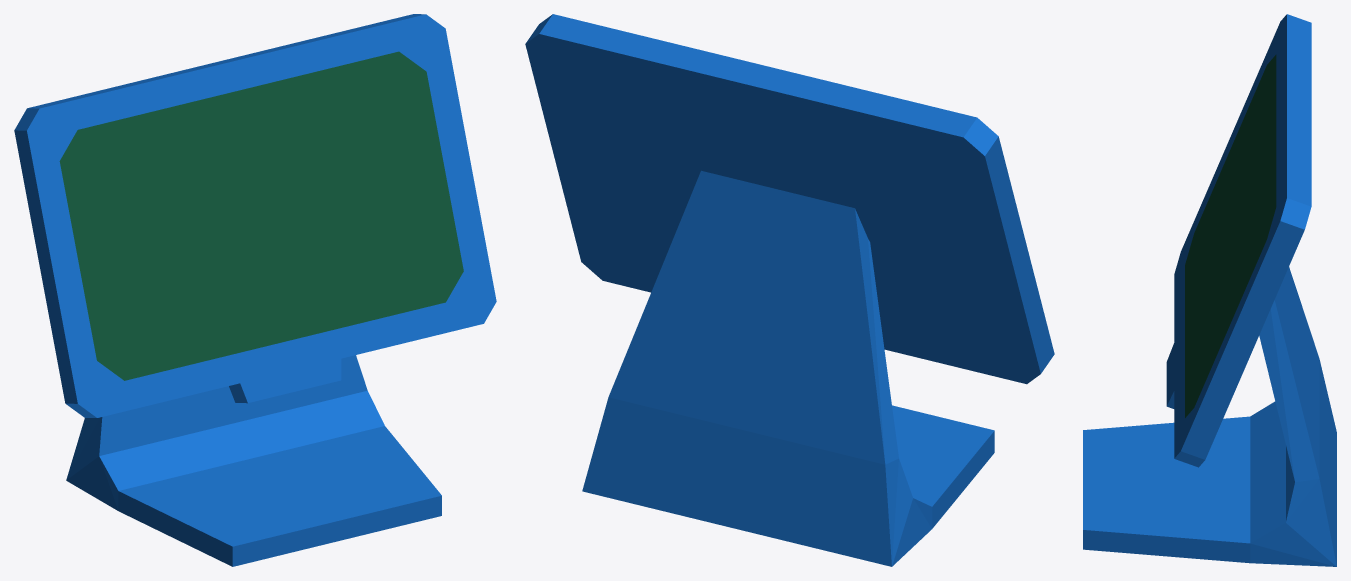
Rendered from T_monitor1.fbx.
The picture shows the model from 3 angles, left to right: view 1: azimuth 30°, elevation 25°; view 2: azimuth 150°, elevation 25°; view 3: azimuth 270°, elevation 25°; orthographic projection. The views are drawn at different scales.
Parts seen in each view (by area): view 1: monitor; view 2: monitor; view 3: monitor.
Part boxes in pixels (x1,y1,x2,y2): monitor: [14, 14, 496, 566]; monitor: [525, 14, 1054, 566]; monitor: [1083, 14, 1336, 566].
Size of the model in its own units: 45.1 by 41.52 by 24.27.
